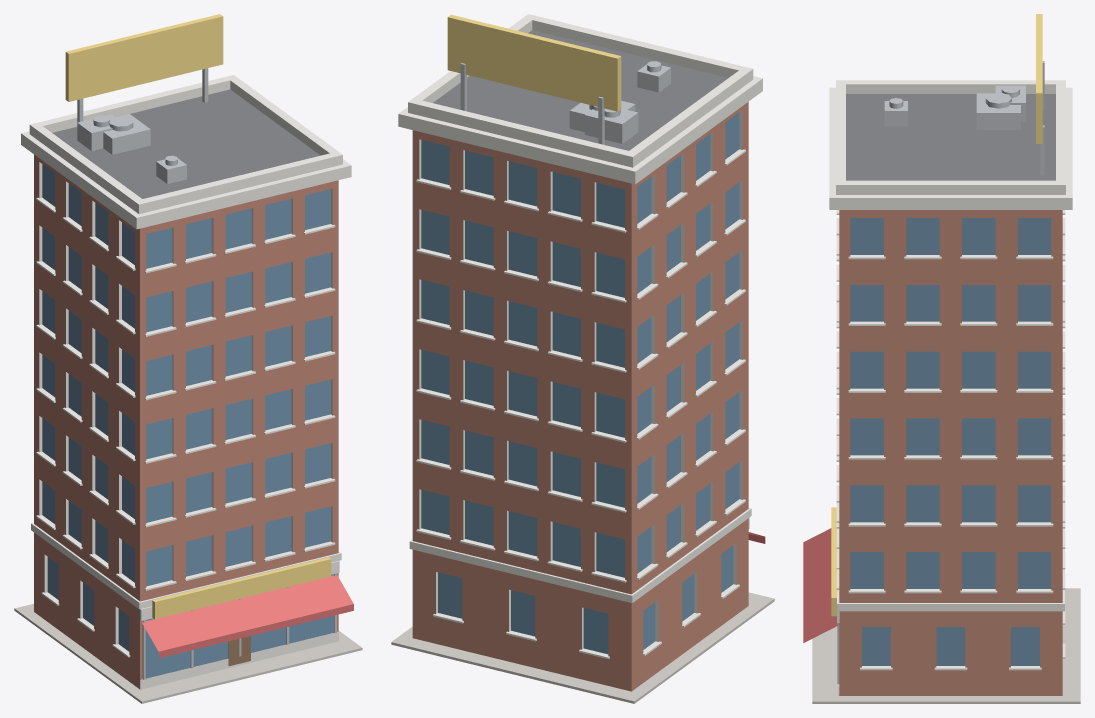
3 views of the same model, side by side, from view 1: azimuth 30°, elevation 25°; view 2: azimuth 150°, elevation 25°; view 3: azimuth 270°, elevation 25° (orthographic). The views are drawn at different scales.
Parts seen in each view (by area): view 1: c_2_1_c; view 2: c_2_1_c; view 3: c_2_1_c.
Part boxes in pixels (x1,y1,x2,y2): c_2_1_c: [14, 14, 362, 703]; c_2_1_c: [391, 14, 774, 703]; c_2_1_c: [803, 14, 1080, 703].
Bounding box in the file's own units: 12 × 29.32 × 12.4.
